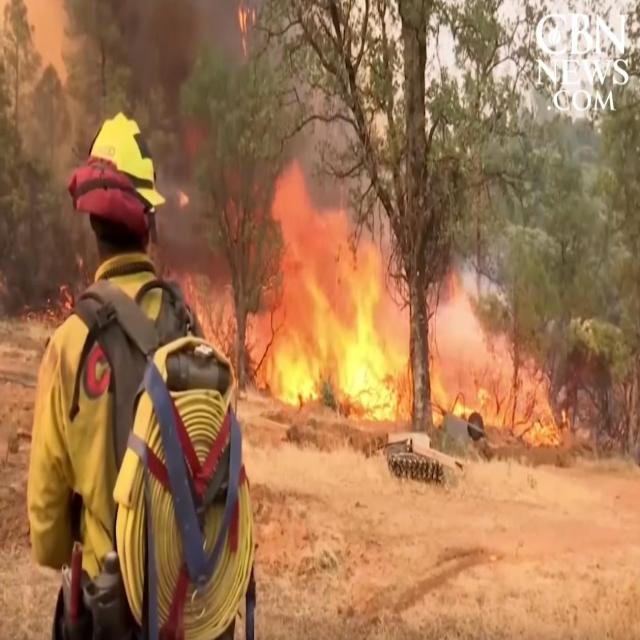Fire: (274, 169, 410, 424), (266, 330, 320, 406), (430, 372, 490, 425), (48, 284, 76, 326), (528, 420, 564, 450), (238, 2, 257, 56), (481, 406, 507, 431), (189, 287, 204, 323), (180, 188, 190, 210)
Smoke: (114, 0, 200, 81), (433, 303, 485, 363)
